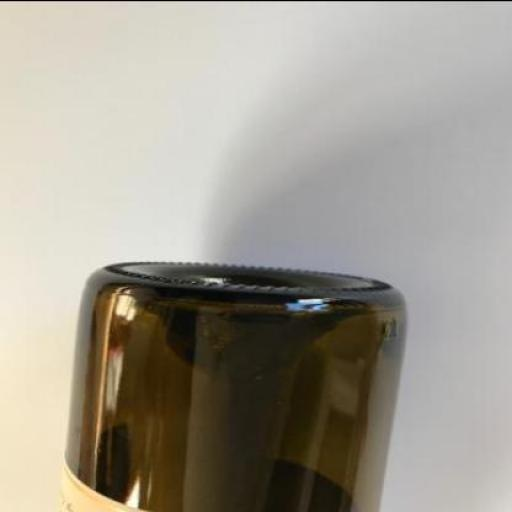glass: (54, 262, 410, 511)
